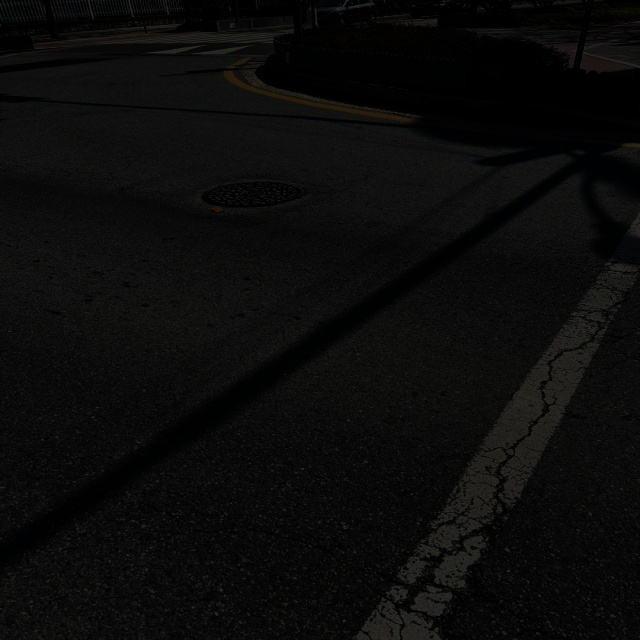Sewer Cover: (197, 168, 336, 230)
